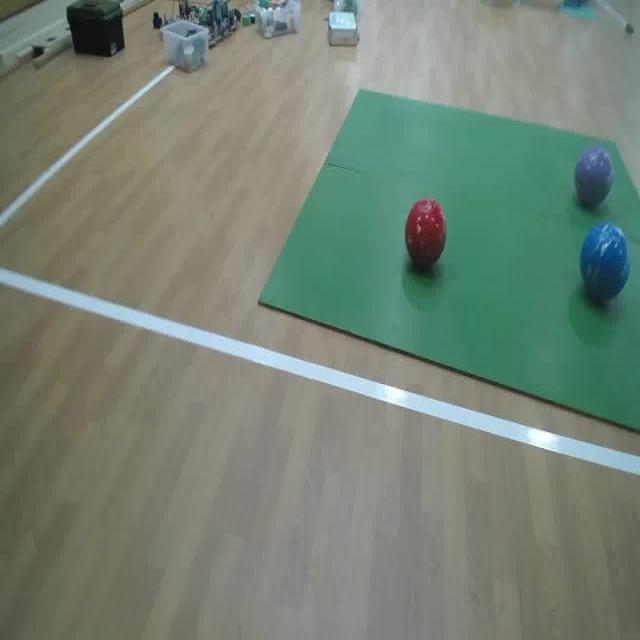blue_ball: (579, 213, 640, 310)
purple_ball: (578, 136, 611, 206)
red_ball: (404, 196, 457, 261)
